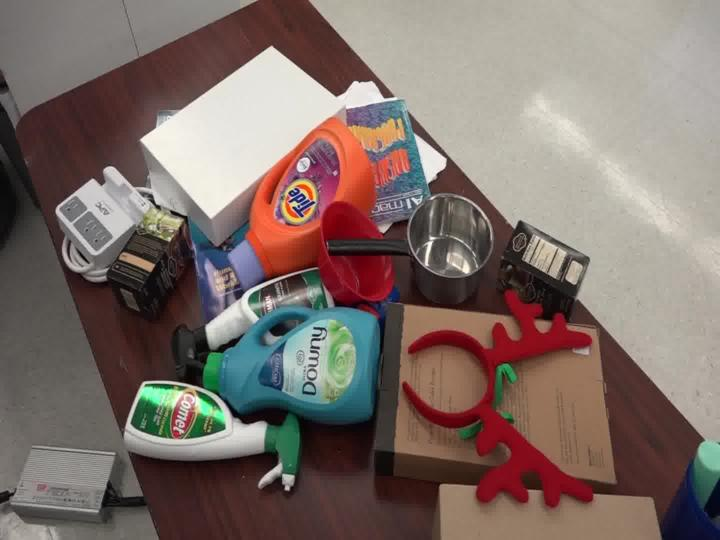downy: (180, 291, 394, 436)
